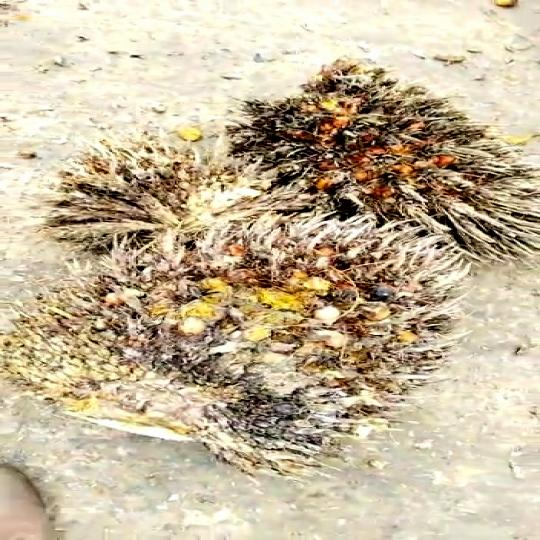terlalu masak: (0, 223, 474, 477), (241, 75, 540, 241), (37, 129, 301, 270)
